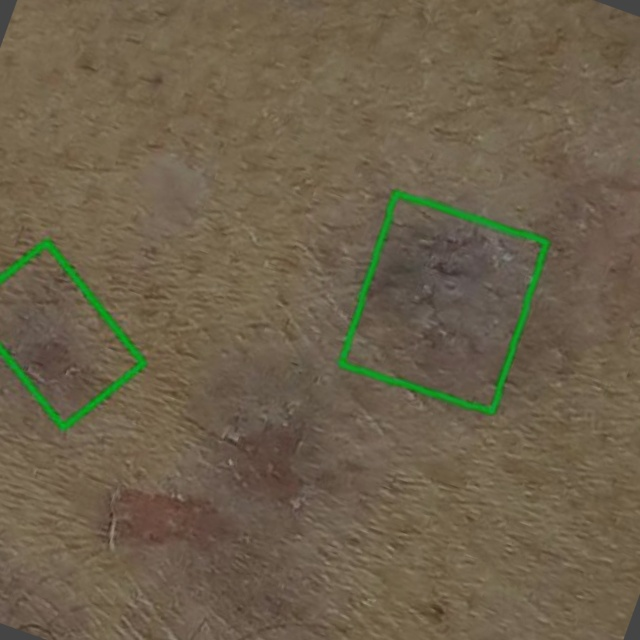Contact Dermatitis: (340, 194, 545, 412), (0, 242, 142, 427)
